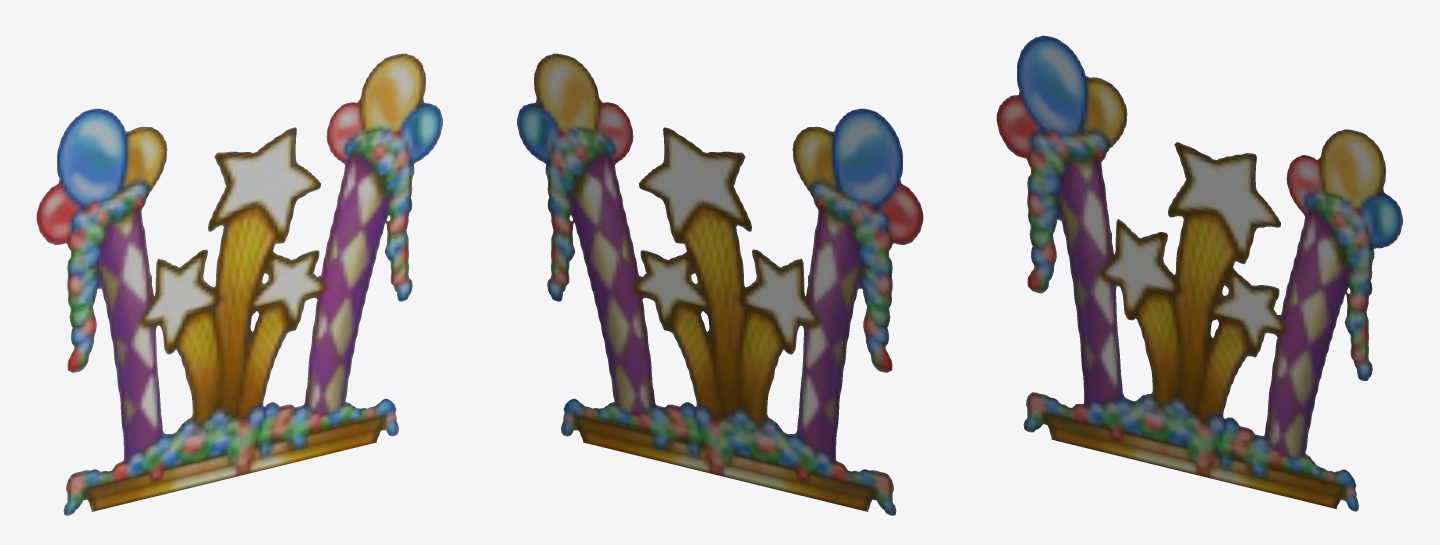
The model's file is balloon_stage.glb.
3 renders of one model, left to right at view 1: azimuth 30°, elevation 25°; view 2: azimuth 150°, elevation 25°; view 3: azimuth 330°, elevation 25°, orthographic.
Visible parts, largest first — view 1: partyDecoration_BalloonStage__billboard; view 2: partyDecoration_BalloonStage__billboard; view 3: partyDecoration_BalloonStage__billboard.
Part boxes in pixels (box(x1,y1,x2,y2)): partyDecoration_BalloonStage__billboard: box(36, 53, 442, 515); partyDecoration_BalloonStage__billboard: box(517, 53, 923, 515); partyDecoration_BalloonStage__billboard: box(996, 35, 1402, 511).
Bounding box in the file's own units: 7.12 × 6.12 × 0.
1 material, 1 textured.
